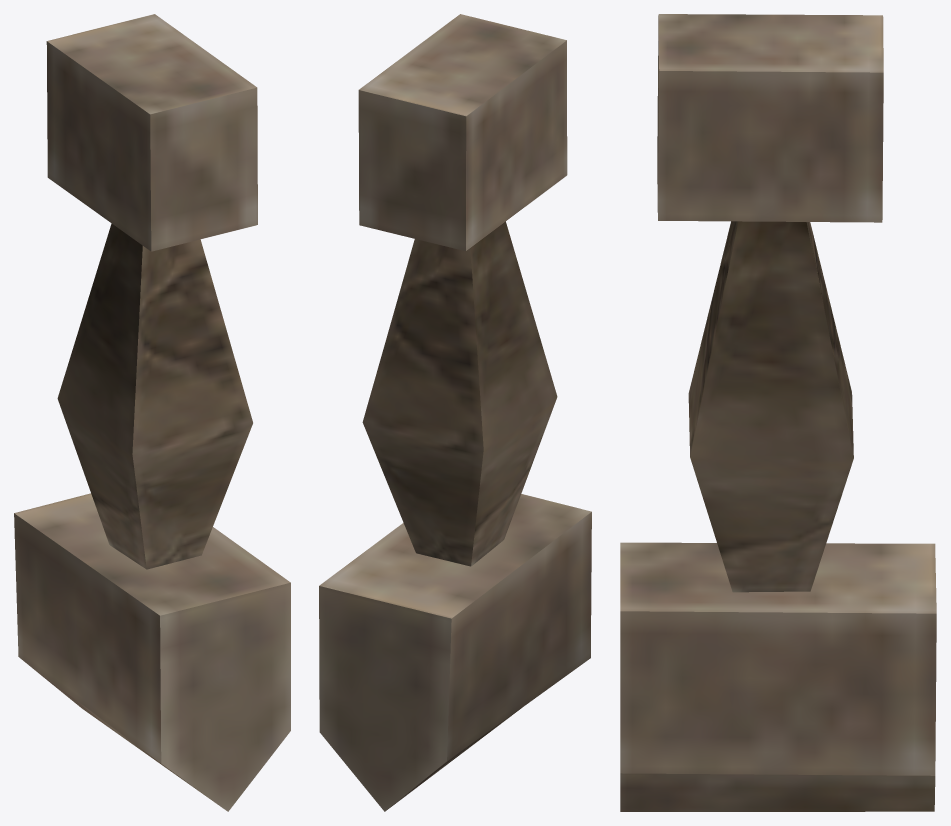
File: rysd_langan_b.FBX
3 renders of one model, left to right at view 1: azimuth 30°, elevation 25°; view 2: azimuth 150°, elevation 25°; view 3: azimuth 270°, elevation 25°, orthographic. The views are drawn at different scales.
Visible parts, largest first — view 1: langan_b; view 2: langan_b; view 3: langan_b.
Part boxes in pixels (<box>): langan_b: <box>14,14,290,811</box>; langan_b: <box>319,14,591,811</box>; langan_b: <box>620,14,936,811</box>.
Size of the model in its own units: 39.88 by 201 by 75.01.
